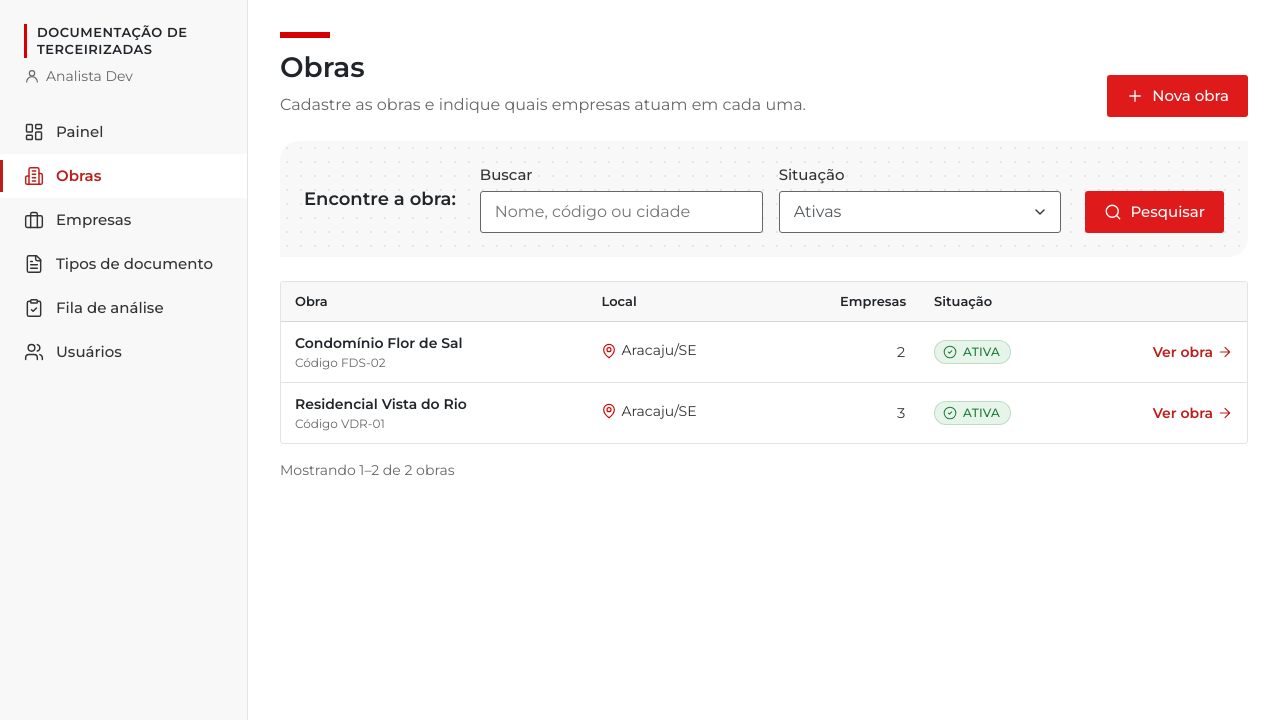
Obras › cria uma obra e abre o detalhe dela
The image size is (1280, 720).
Expected: the table named "Obras" is shown, [281,282,1247,443]
Step 1. Click the button "Nova obra" → (1178,96), box [1107,75,1248,117]
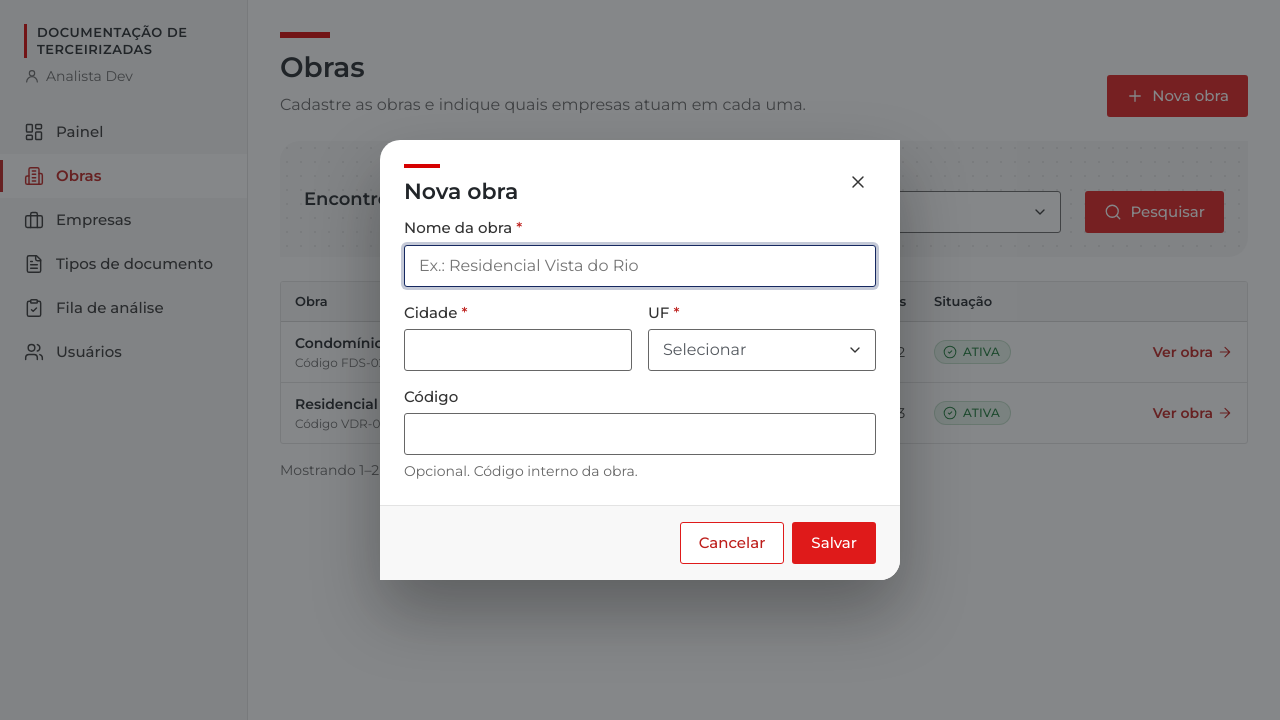
Step 2. Type "Residencial Mar Azul" into the field labelled "Nome da obra *" → (640,266), box [404,244,876,286]
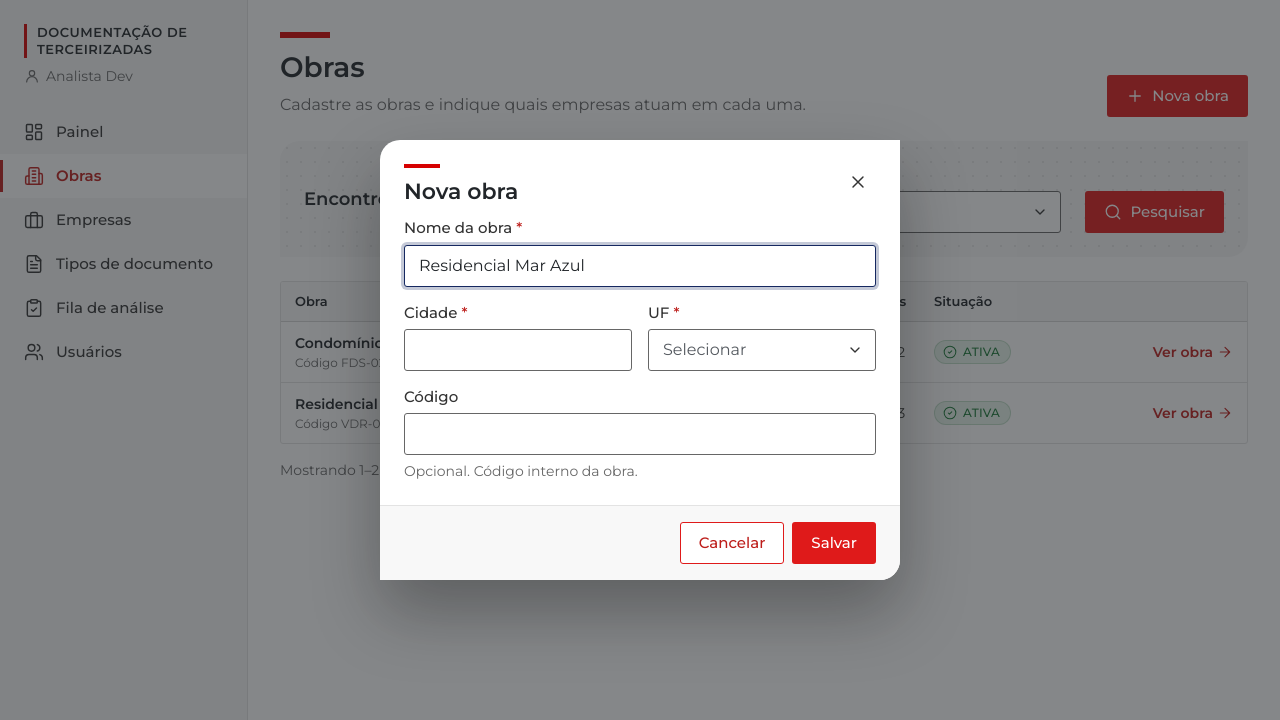
Step 3. Type "Aracaju" into the field labelled "Cidade *" → (518,350), box [404,329,632,371]
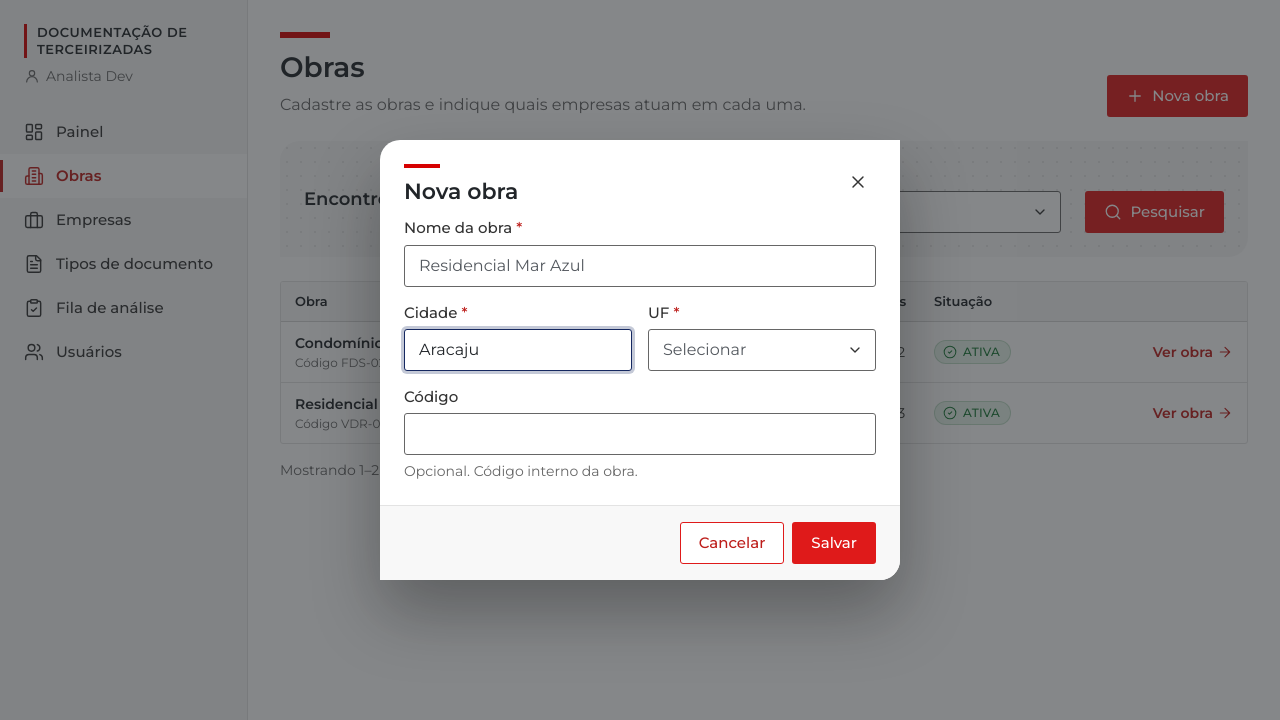
Step 4. Select "SE" in the dropdown labelled "UF *" → (762,350), box [648,329,876,371]
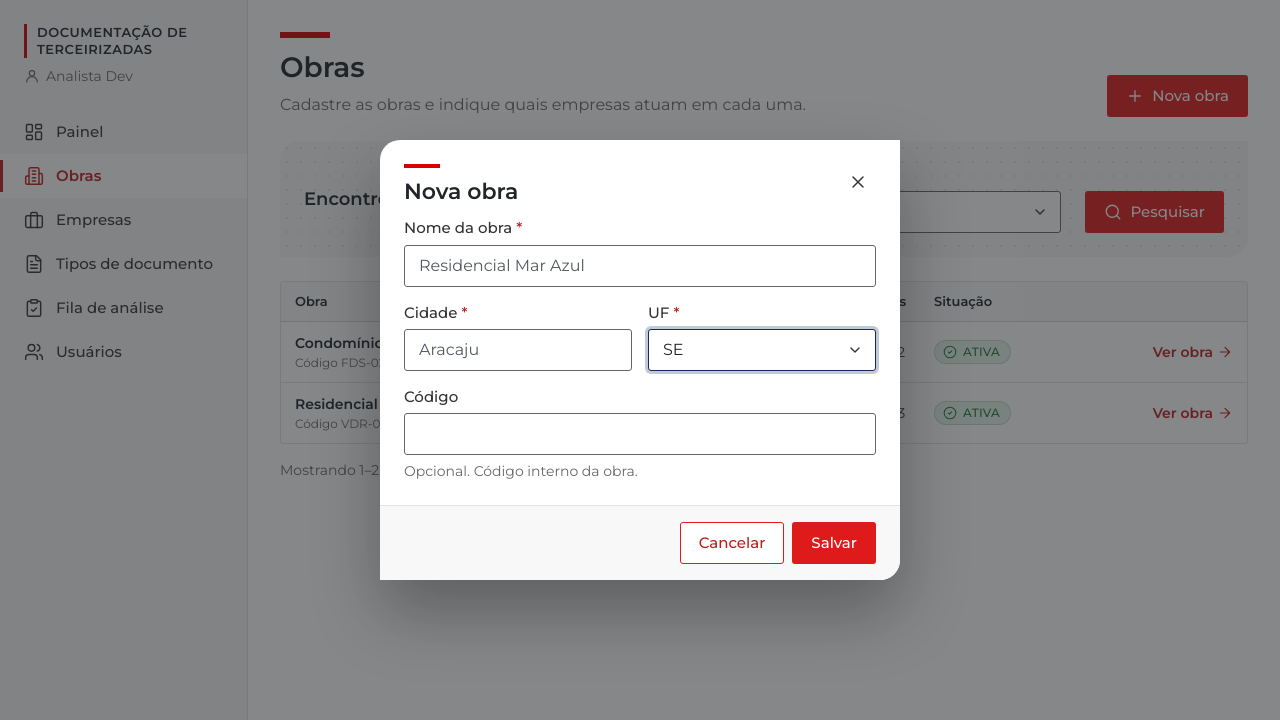
Step 5. Click the button "Salvar" → (834,543), box [792,522,876,564]
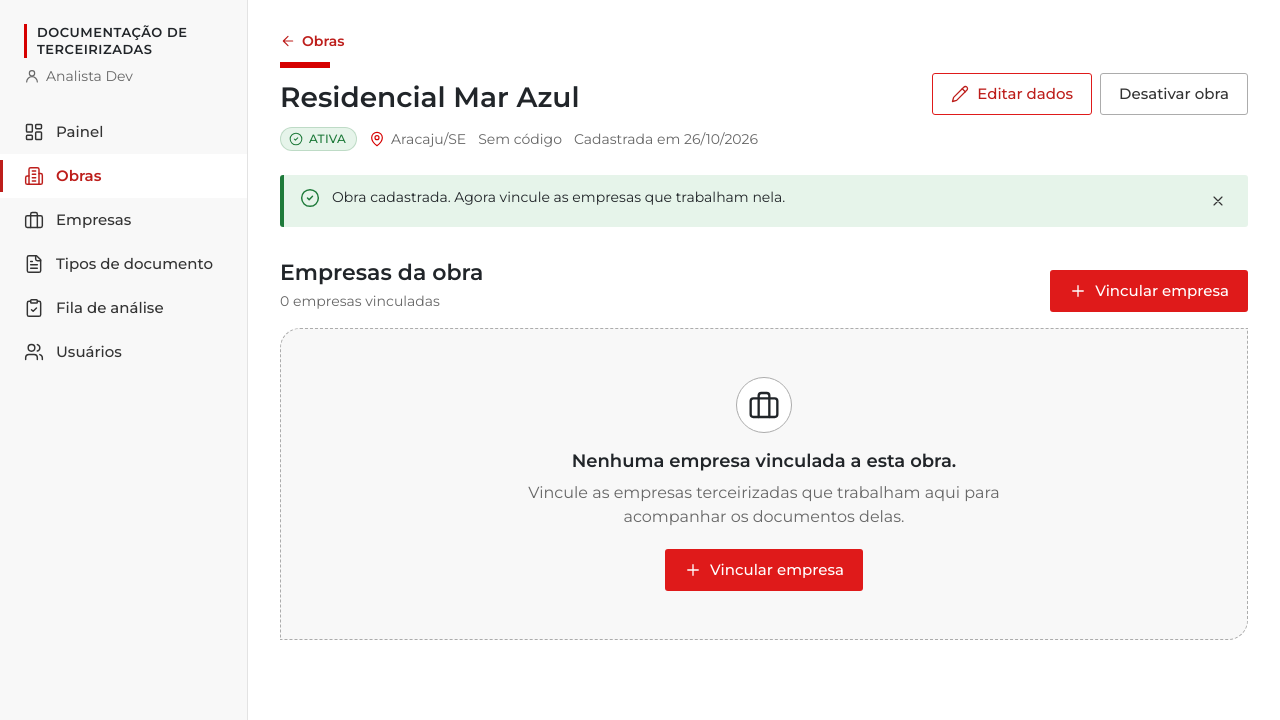
Expected: the heading "Residencial Mar Azul" is shown, [280,80,580,114]
Expected: the text "Nenhuma empresa vinculada a esta obra." is shown, [572,449,956,473]
